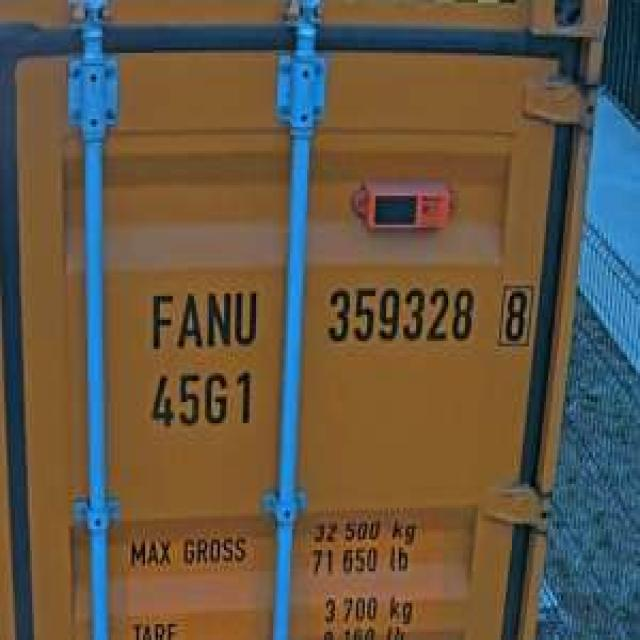dv: (492, 272, 538, 352)
owner: (139, 286, 262, 352)
serial: (318, 278, 478, 352)
size: (141, 362, 258, 434)
